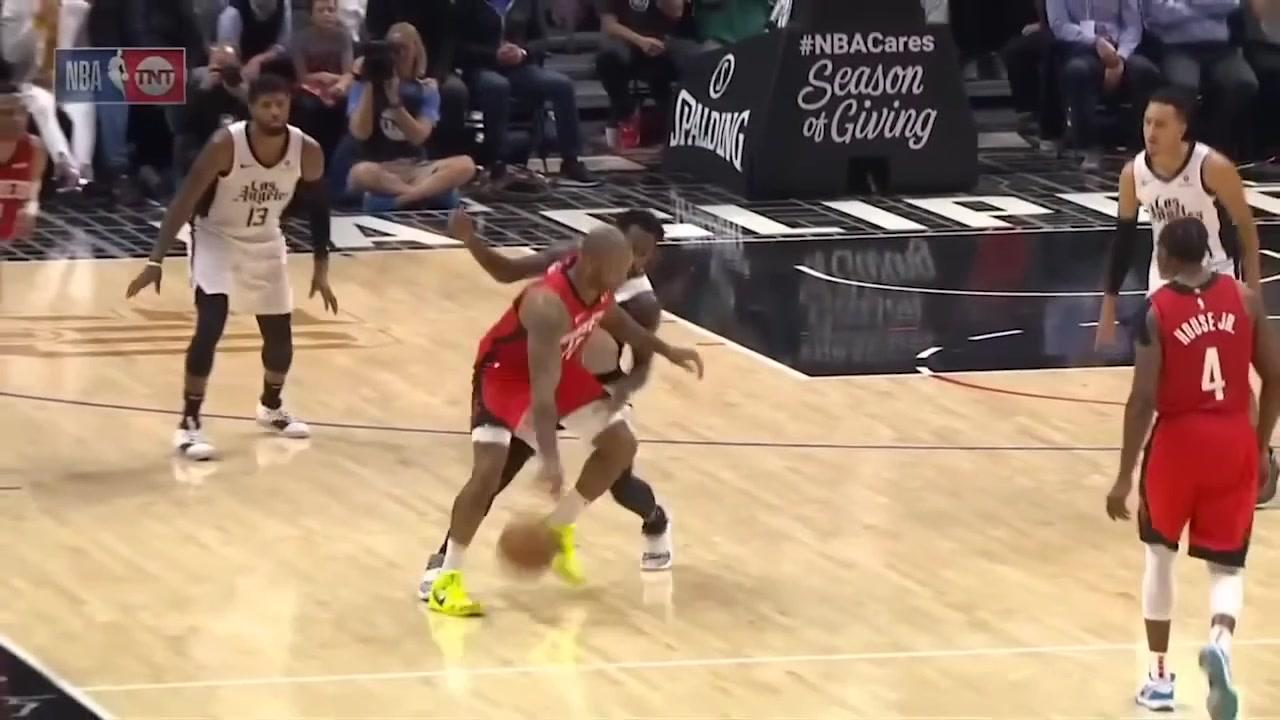foul: (435, 214, 704, 602)
